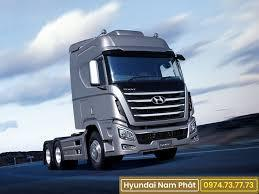hyundai: (150, 93, 166, 105)
